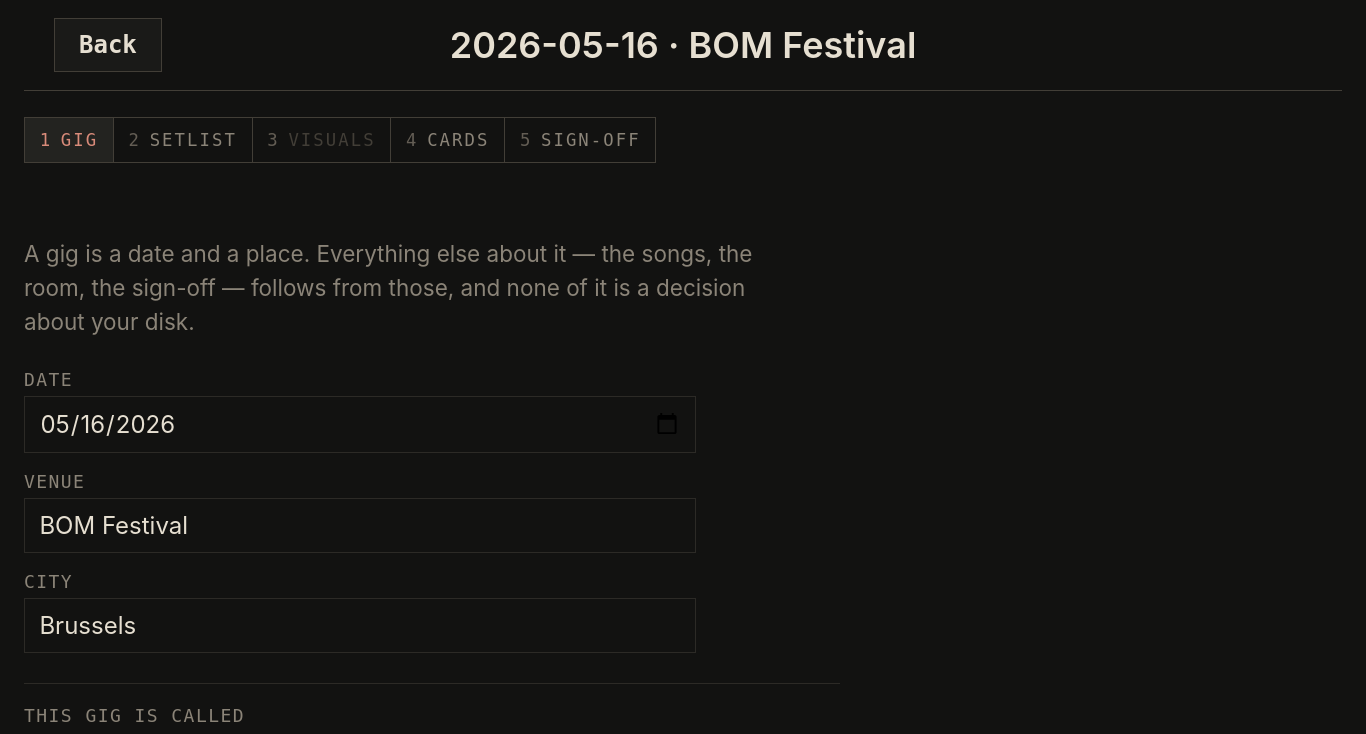
the check screen › fails the setlist line when the gig has none
Click the button with test id "gig-flow-step-5" at {"x": 580, "y": 140}, box [505,118,655,162]
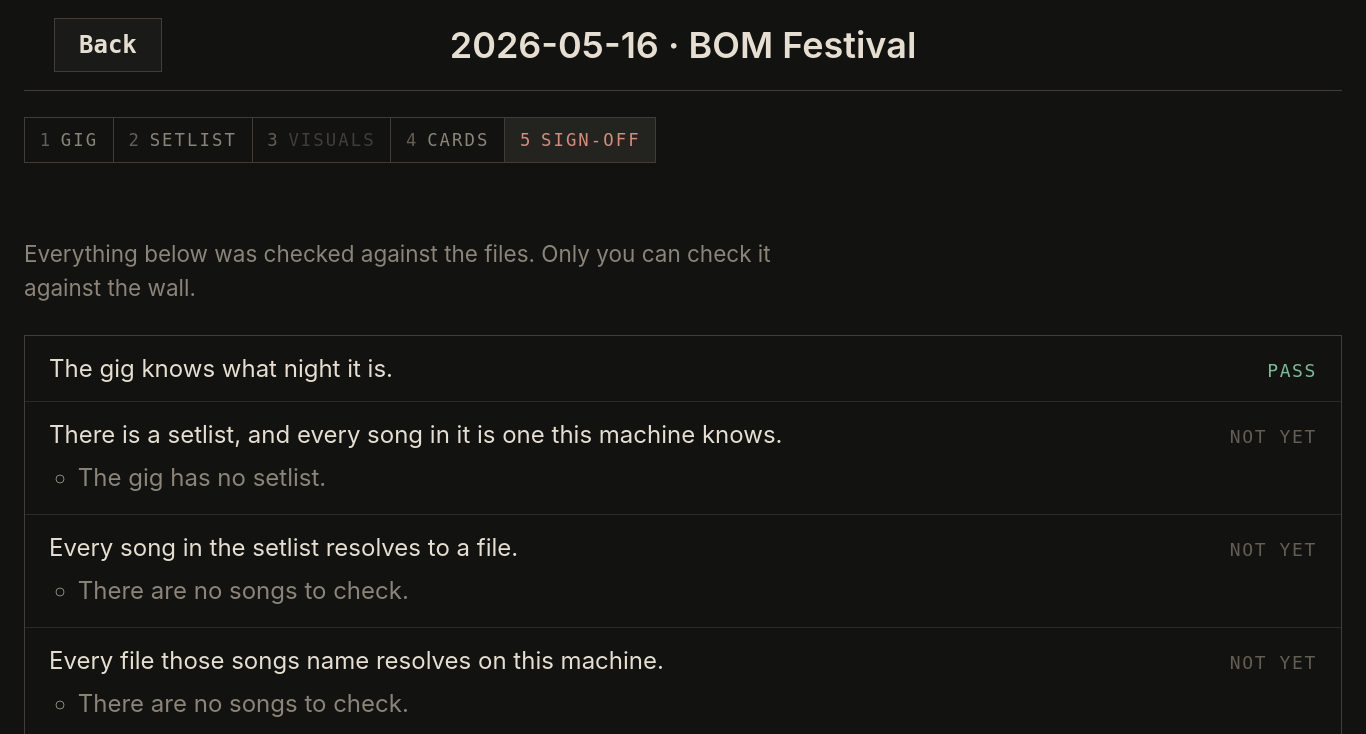
Check: the list with test id "gig-check-setlist-detail" shows "no setlist", box [78,463,326,492]
